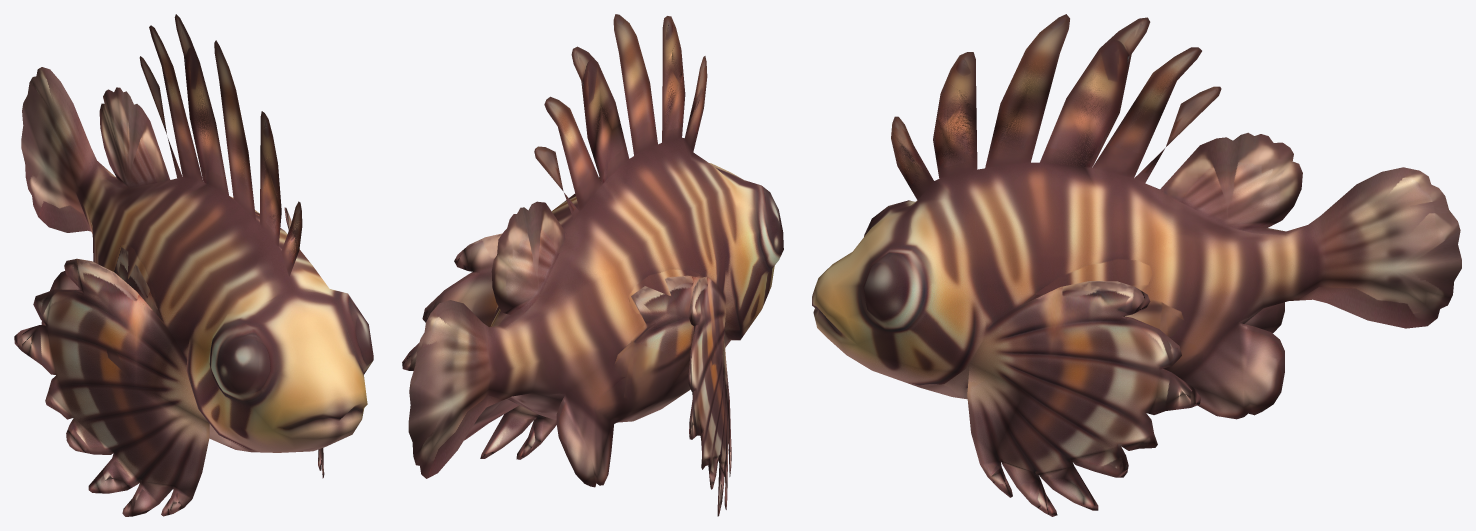
Rendered from Lionfish_01.fbx.
3 views of the same model, side by side, from view 1: azimuth 30°, elevation 25°; view 2: azimuth 150°, elevation 25°; view 3: azimuth 270°, elevation 25° (orthographic). The views are drawn at different scales.
Parts seen in each view (by area): view 1: Lionfish_01; view 2: Lionfish_01; view 3: Lionfish_01.
Part boxes in pixels (x1,y1,x2,y2): Lionfish_01: (14,14,373,516); Lionfish_01: (402,14,783,516); Lionfish_01: (812,14,1461,516).
Size of the model in its own units: 27.05 by 42.91 by 55.51.
